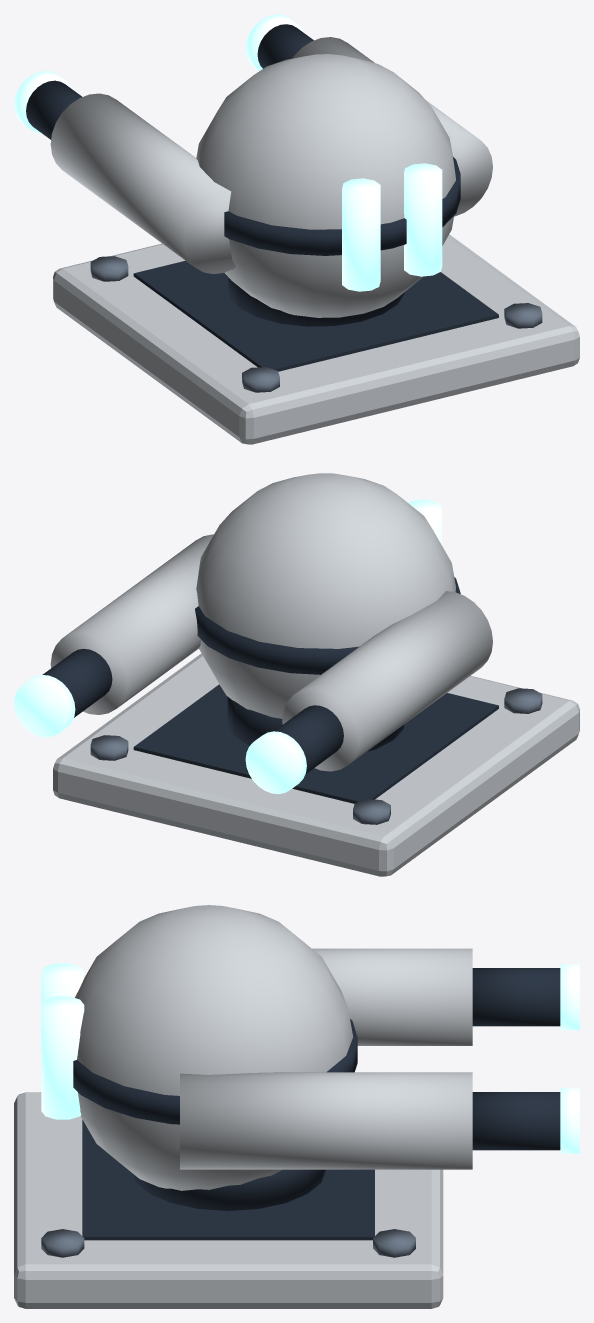
Rendered from twin.fbx.
The picture shows the model from 3 angles, top to bottom: view 1: azimuth 30°, elevation 25°; view 2: azimuth 150°, elevation 25°; view 3: azimuth 270°, elevation 25°; orthographic projection. The views are drawn at different scales.
Parts seen in each view (by area): view 1: Panel_Body0, Panel_Plate0, Panel_Pod0, Inset_Inset0, Inset_Band0, Emit_Cell0, Emit_Cell1, Panel_Pod1, Inset_Ring0, Inset_Barrel0, Inset_Barrel1, Emit_Tip0 (+4 smaller); view 2: Panel_Plate0, Panel_Body0, Panel_Pod0, Inset_Inset0, Panel_Pod1, Inset_Band0, Emit_Tip0, Emit_Tip1, Inset_Barrel0, Inset_Barrel1, Inset_Ring0, Gun_Bolt3 (+3 smaller); view 3: Panel_Body0, Panel_Plate0, Panel_Pod1, Inset_Inset0, Panel_Pod0, Inset_Barrel0, Inset_Barrel1, Emit_Cell1, Inset_Ring0, Inset_Band0, Emit_Cell0, Emit_Tip0 (+3 smaller).
Boxes of the visible parts, x1,y1,x2,y2 form: Panel_Body0: [196, 54, 455, 317]; Panel_Plate0: [53, 234, 579, 444]; Panel_Pod0: [50, 93, 235, 273]; Inset_Inset0: [133, 260, 498, 371]; Inset_Band0: [224, 157, 460, 255]; Emit_Cell0: [342, 178, 380, 291]; Emit_Cell1: [404, 163, 442, 276]; Panel_Pod1: [292, 37, 492, 216]; Inset_Ring0: [227, 276, 404, 326]; Inset_Barrel0: [26, 80, 81, 139]; Inset_Barrel1: [257, 24, 313, 68]; Emit_Tip0: [14, 71, 73, 133]; Panel_Plate0: [53, 653, 579, 876]; Panel_Body0: [196, 473, 455, 718]; Panel_Pod0: [282, 591, 492, 771]; Inset_Inset0: [133, 684, 498, 803]; Panel_Pod1: [50, 534, 213, 714]; Inset_Band0: [195, 577, 460, 674]; Emit_Tip0: [245, 731, 306, 794]; Emit_Tip1: [14, 675, 75, 737]; Inset_Barrel0: [274, 705, 343, 774]; Inset_Barrel1: [42, 648, 112, 717]; Inset_Ring0: [227, 697, 403, 751]; Gun_Bolt3: [90, 735, 128, 760]; Panel_Body0: [74, 905, 352, 1190]; Panel_Plate0: [14, 1092, 443, 1308]; Panel_Pod1: [180, 1072, 472, 1169]; Inset_Inset0: [82, 1119, 374, 1240]; Panel_Pod0: [312, 948, 472, 1045]; Inset_Barrel0: [472, 968, 560, 1026]; Inset_Barrel1: [472, 1092, 560, 1150]; Emit_Cell1: [41, 996, 84, 1119]; Inset_Ring0: [133, 1169, 325, 1210]; Inset_Band0: [73, 1019, 357, 1124]; Emit_Cell0: [41, 963, 84, 1004]; Emit_Tip0: [560, 964, 579, 1030].
Size of the model in its own units: 0.44 by 0.58 by 0.345.
